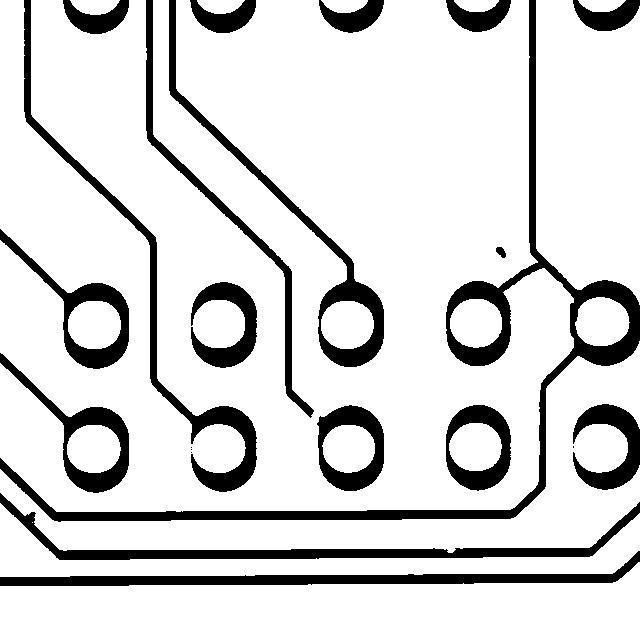copper: (486, 237, 515, 267)
mousebite: (433, 537, 465, 562)
open: (301, 401, 330, 435)
short: (487, 250, 556, 303), (560, 293, 587, 346)
spur: (13, 502, 45, 535)
